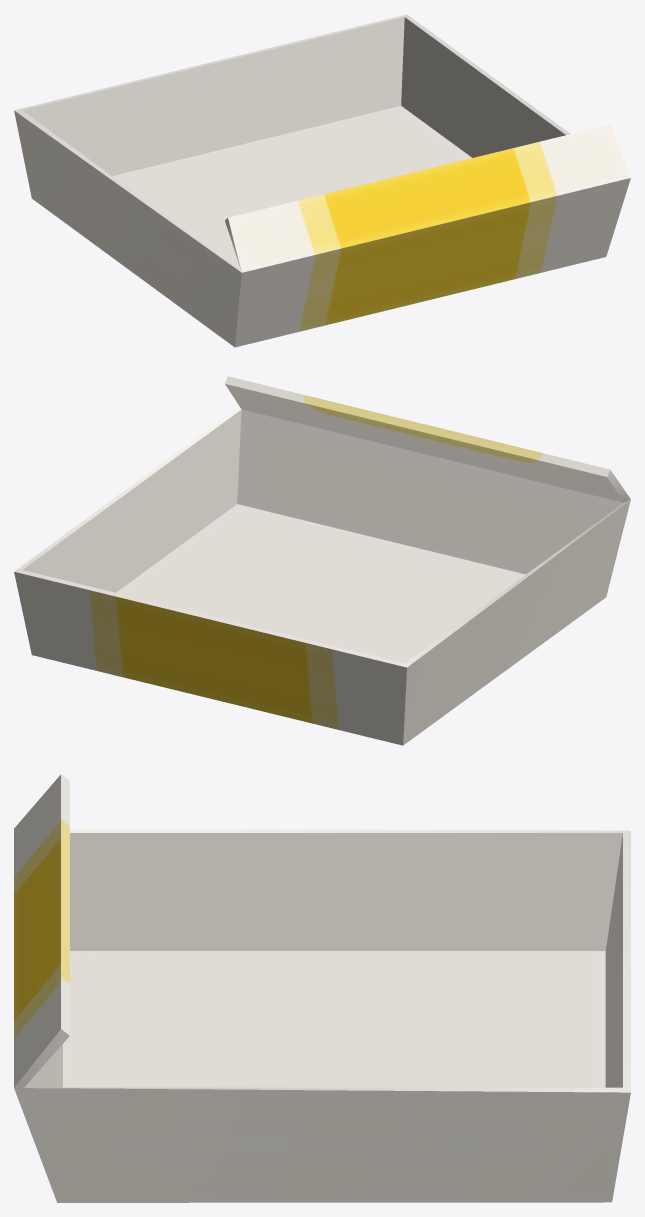
File: fff_box_burger_bottom.FBX
3 views of the same model, one above another, from view 1: azimuth 30°, elevation 25°; view 2: azimuth 150°, elevation 25°; view 3: azimuth 270°, elevation 25° (orthographic). The views are drawn at different scales.
Parts seen in each view (by area): view 1: fff_box_burger_bottom; view 2: fff_box_burger_bottom; view 3: fff_box_burger_bottom.
Part boxes in pixels (x1,y1,x2,y2): fff_box_burger_bottom: (14,14,630,347); fff_box_burger_bottom: (14,376,630,745); fff_box_burger_bottom: (14,774,630,1202).
Bounding box in the file's own units: 6.3 × 1.99 × 6.27.
